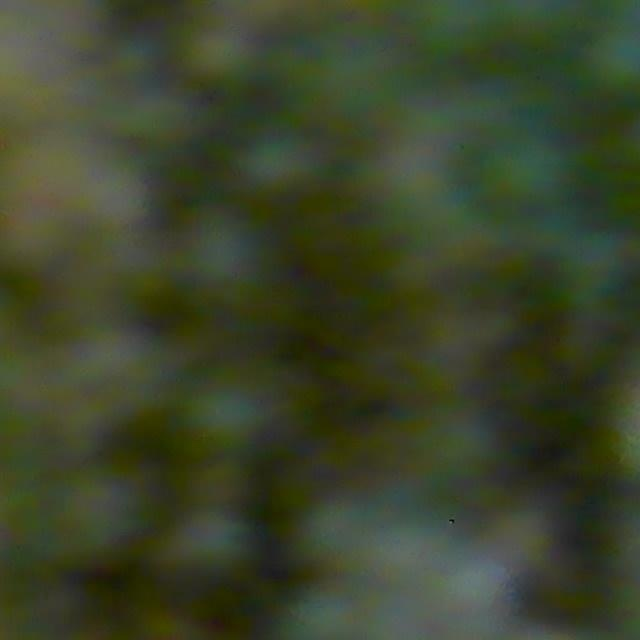SeaGrape: (180, 208, 267, 294), (170, 500, 257, 584), (185, 375, 272, 456), (237, 125, 322, 202), (277, 582, 366, 640), (585, 22, 640, 101)
